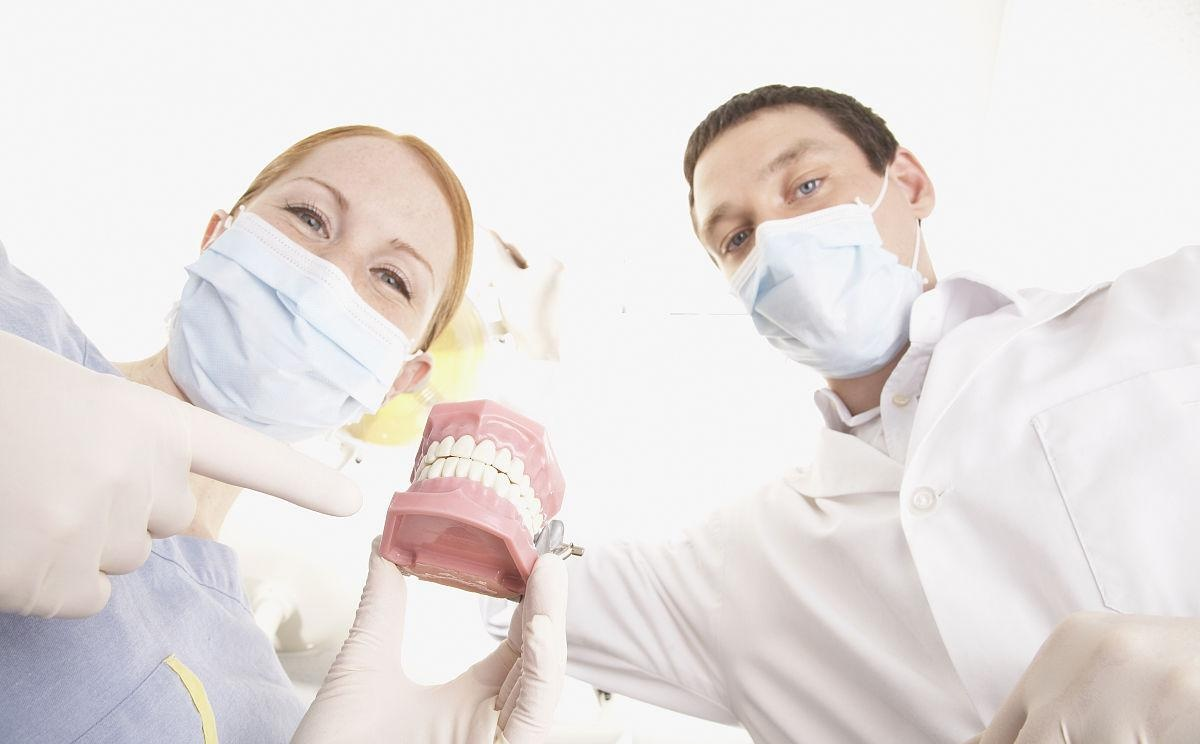Mask: (706, 156, 918, 368)
